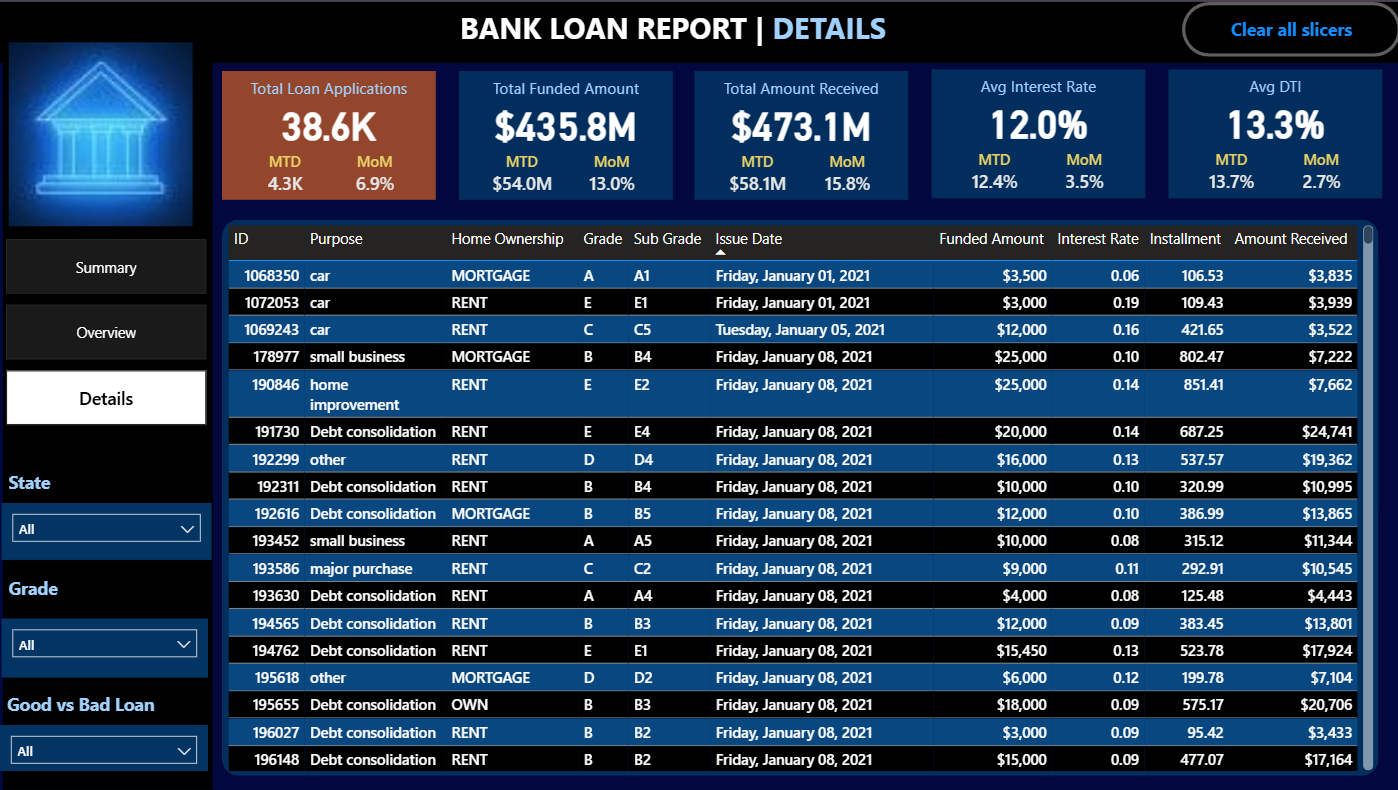

The page's visual inventory and layout, read from the dashboard file:
{"tool":"powerbi","page":{"name":"Details","canvas":[1280,720],"ordinal":2},"visuals":[{"type":"shape","box":[3.3,55,191.7,665],"z":0},{"type":"shape","box":[0,0,1278.9,55.7],"z":1000},{"type":"textbox","box":[415.1,0,447,62],"z":2000},{"type":"shape","box":[851,62,195.6,117.7],"z":3000,"group":"g4"},{"type":"shape","box":[1067.3,62,195.6,117.7],"z":3000,"group":"g5"},{"type":"group","id":"g1","title":"Group 1","box":[203.3,63.3,196.7,118.3],"z":3000},{"type":"shape","box":[203.3,63.3,195.6,117.7],"z":3000,"group":"g1"},{"type":"shape","box":[419,63.3,195.6,117.7],"z":3000,"group":"g2"},{"type":"shape","box":[634.7,63.6,195.6,117.7],"z":3000,"group":"g3"},{"type":"group","id":"g2","title":"Group 1","box":[419,63.3,196.7,118.3],"z":4000},{"type":"card","fields":{"Values":["bank_loan_data.Avg Interest Rate"]},"box":[851,84.3,194.1,50.9],"z":4000,"group":"g4"},{"type":"card","fields":{"Values":["bank_loan_data.Avg Dti"]},"box":[1067.3,84.3,194.1,50.9],"z":4000,"group":"g5"},{"type":"card","fields":{"Values":["bank_loan_data.Total Loan Applications"]},"box":[203.3,85.6,194.1,50.9],"z":4000,"group":"g1"},{"type":"card","fields":{"Values":["bank_loan_data.Total Funded Amount"]},"box":[419,85.6,194.1,50.9],"z":4000,"group":"g2"},{"type":"card","fields":{"Values":["bank_loan_data.Total Amount Received"]},"box":[634.7,85.9,194.1,50.9],"z":4000,"group":"g3"},{"type":"textbox","box":[851,62,195.6,33.4],"z":5000,"group":"g4"},{"type":"textbox","box":[1067.3,62,195.6,33.4],"z":5000,"group":"g5"},{"type":"textbox","box":[203.3,63.3,195.6,33.4],"z":5000,"group":"g1"},{"type":"textbox","box":[419,63.3,195.6,33.4],"z":5000,"group":"g2"},{"type":"group","id":"g3","title":"Group 1","box":[634.7,63.6,197.2,117.7],"z":5000},{"type":"textbox","box":[634.7,63.6,195.6,33.4],"z":5000,"group":"g3"},{"type":"group","id":"g4","title":"Group 1","box":[851,62,197.2,117.7],"z":6000},{"type":"card","title":"MTD","fields":{"Values":["bank_loan_data.MTD Avg Interest Rate"]},"box":[867.4,135,81.7,45],"z":6000,"group":"g4"},{"type":"card","title":"MTD","fields":{"Values":["bank_loan_data.MTD Avg DTI"]},"box":[1083.7,135,81.7,45],"z":6000,"group":"g5"},{"type":"card","title":"MTD","fields":{"Values":["bank_loan_data.MTD Loan Applications"]},"box":[219.7,136.3,81.7,45],"z":6000,"group":"g1"},{"type":"card","title":"MTD","fields":{"Values":["bank_loan_data.MTD Funded Amount"]},"box":[435.4,136.3,81.7,45],"z":6000,"group":"g2"},{"type":"card","title":"MTD","fields":{"Values":["bank_loan_data.MTD Total Amount Received"]},"box":[651.1,136.6,81.7,45],"z":6000,"group":"g3"},{"type":"group","id":"g5","title":"Group 1","box":[1067.3,62,197.2,117.7],"z":7000},{"type":"card","title":"MoM","fields":{"Values":["bank_loan_data.MoM Avg Interest Rate"]},"box":[949.1,135,81.7,45],"z":7000,"group":"g4"},{"type":"card","title":"MoM","fields":{"Values":["bank_loan_data.MoM Avg DTI"]},"box":[1165.4,135,81.7,45],"z":7000,"group":"g5"},{"type":"card","title":"MoM","fields":{"Values":["bank_loan_data.MoM Loan Application"]},"box":[301.4,136.3,81.7,45],"z":7000,"group":"g1"},{"type":"card","title":"MoM","fields":{"Values":["bank_loan_data.MoM Total Funded Amount"]},"box":[517.1,136.3,81.7,45],"z":7000,"group":"g2"},{"type":"card","title":"MoM","fields":{"Values":["bank_loan_data.MoM Total Amount Received"]},"box":[732.8,136.6,81.7,45],"z":7000,"group":"g3"},{"type":"group","id":"g6","title":"Group 3","box":[0,625,190,76.7],"z":8000},{"type":"group","id":"g7","title":"Group 4","box":[1.7,520,188.3,98.3],"z":9000},{"type":"group","id":"g8","title":"Group 5","box":[1.7,421.7,191.7,86.7],"z":10000},{"type":"shape","box":[203.3,198.3,1056.7,508.3],"z":11000},{"type":"tableEx","fields":{"Values":["bank_loan_data.id","bank_loan_data.purpose","bank_loan_data.home_ownership","bank_loan_data.grade","bank_loan_data.sub_grade","bank_loan_data.issue_date","bank_loan_data.Total Funded Amount","Sum(bank_loan_data.int_rate)","Sum(bank_loan_data.installment)","bank_loan_data.Total Amount Received"]},"box":[203.3,198.3,1056.7,508.3],"z":12000},{"type":"image","box":[0,31.7,183.3,178.3],"z":13000},{"type":"pageNavigator","box":[5,216.7,183.3,171.7],"z":14000},{"type":"actionButton","box":[1080,0,200,50],"z":15000},{"type":"slicer","fields":{"Values":["bank_loan_data.address_state"]},"box":[1.7,456.9,191.7,51.7],"z":15000,"group":"g8"},{"type":"textbox","box":[3.4,421.7,121.7,36.7],"z":16000,"group":"g8"},{"type":"slicer","fields":{"Values":["bank_loan_data.grade"]},"box":[1.7,564.5,188.3,53.8],"z":17000,"group":"g7"},{"type":"slicer","fields":{"Values":["bank_loan_data.Good vs Bad Loan"]},"box":[0,660,190,41.7],"z":18000,"group":"g6"},{"type":"textbox","box":[3.4,520,116.8,45.4],"z":19000,"group":"g7"},{"type":"textbox","box":[1.7,625,175,33.3],"z":20000,"group":"g6"}]}

Visuals, with their boxes in screenshot pixels (x1, y1, x2, y2), scaled from the page's 1280x720 canvas onto the 1398x790 screenshot:
shape: 4:60:213:789
shape: 0:0:1397:61
textbox: 453:0:942:68
shape: 929:68:1143:197
shape: 1166:68:1379:197
"Group 1" group: 222:69:437:199
shape: 222:69:436:199
shape: 458:69:671:199
shape: 693:70:907:199
"Group 1" group: 458:69:672:199
card - bank_loan_data.Avg Interest Rate: 929:92:1141:148
card - bank_loan_data.Avg Dti: 1166:92:1378:148
card - bank_loan_data.Total Loan Applications: 222:94:434:150
card - bank_loan_data.Total Funded Amount: 458:94:670:150
card - bank_loan_data.Total Amount Received: 693:94:905:150
textbox: 929:68:1143:105
textbox: 1166:68:1379:105
textbox: 222:69:436:106
textbox: 458:69:671:106
"Group 1" group: 693:70:909:199
textbox: 693:70:907:106
"Group 1" group: 929:68:1145:197
"MTD" card: 947:148:1037:198
"MTD" card: 1184:148:1273:198
"MTD" card: 240:150:329:199
"MTD" card: 476:150:565:199
"MTD" card: 711:150:800:199
"Group 1" group: 1166:68:1381:197
"MoM" card: 1037:148:1126:198
"MoM" card: 1273:148:1362:198
"MoM" card: 329:150:418:199
"MoM" card: 565:150:654:199
"MoM" card: 800:150:890:199
"Group 3" group: 0:686:208:770
"Group 4" group: 2:571:208:678
"Group 5" group: 2:463:211:558
shape: 222:218:1376:775
tableEx - bank_loan_data.id x bank_loan_data.purpose: 222:218:1376:775
image: 0:35:200:230
pageNavigator: 5:238:206:426
actionButton: 1180:0:1397:55
slicer - bank_loan_data.address_state: 2:501:211:558
textbox: 4:463:137:503
slicer - bank_loan_data.grade: 2:619:208:678
slicer - bank_loan_data.Good vs Bad Loan: 0:724:208:770
textbox: 4:571:131:620
textbox: 2:686:193:722
